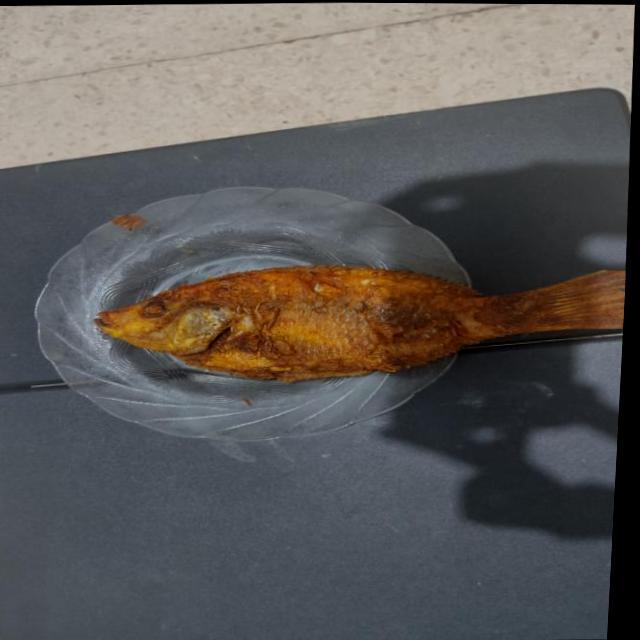ikan_mujair: (94, 266, 625, 382)
